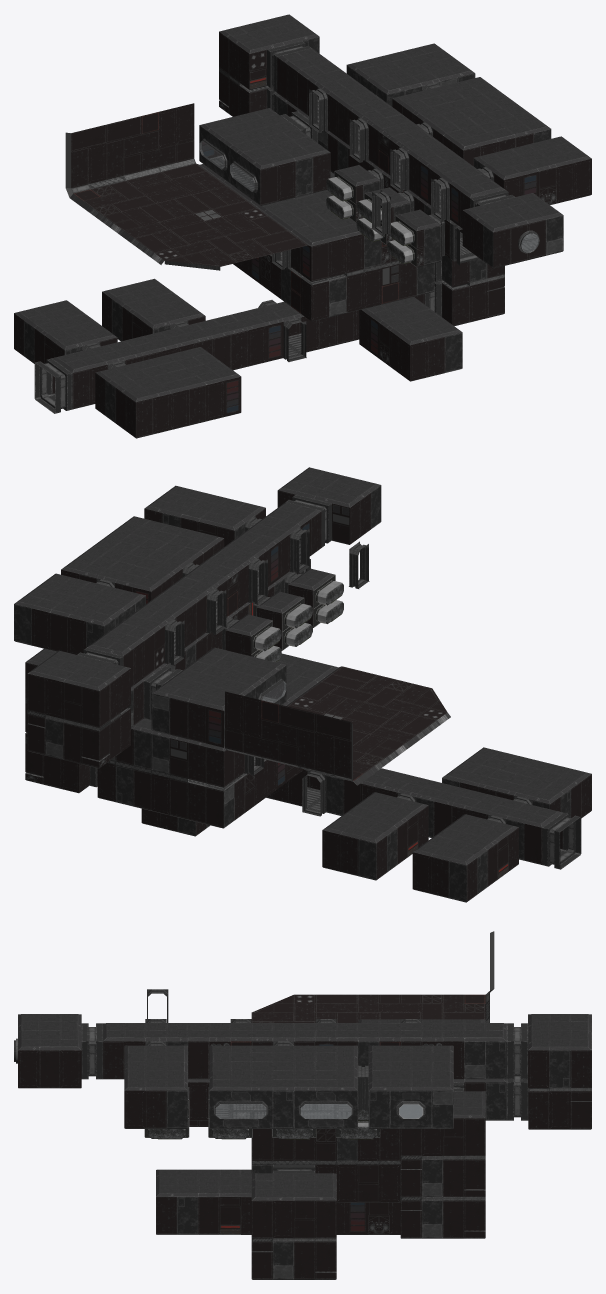
Rendered from Level1Area1.glb.
3 views of the same model, one above another, from view 1: azimuth 30°, elevation 25°; view 2: azimuth 150°, elevation 25°; view 3: azimuth 270°, elevation 25° (orthographic). The views are drawn at different scales.
Visible parts, largest first — view 1: Area2_celi-col.001, Area1_EXPORTLEVELCEIL-col, Area1_EXPORTLEVEL-col, Area4_EXPORTLEVEL-col, Area4_EXPORTLEVEL_ceil-col, Area1_EXPORTLEVEL-col.001, Area2-col, Area2_celi-col; view 2: Area1_EXPORTLEVEL-col, Area1_EXPORTLEVELCEIL-col, Area2_celi-col.001, Area4_EXPORTLEVEL-col, Area4_EXPORTLEVEL_ceil-col, Area2-col, Area1_EXPORTLEVEL-col.001, Area2_celi-col; view 3: Area1_EXPORTLEVEL-col, Area1_EXPORTLEVELCEIL-col, Area1_EXPORTLEVEL-col.001, Area2-col, Area2_celi-col.001, Area4_EXPORTLEVEL-col, Area4_EXPORTLEVEL_ceil-col, Area2_celi-col.
Boxes of the visible parts, bbox=[...] form: Area2_celi-col.001: bbox=[65, 103, 361, 270]; Area1_EXPORTLEVELCEIL-col: bbox=[219, 14, 591, 232]; Area1_EXPORTLEVEL-col: bbox=[219, 32, 591, 268]; Area4_EXPORTLEVEL-col: bbox=[14, 292, 462, 438]; Area4_EXPORTLEVEL_ceil-col: bbox=[14, 278, 462, 402]; Area1_EXPORTLEVEL-col.001: bbox=[233, 234, 504, 326]; Area2-col: bbox=[199, 96, 479, 267]; Area2_celi-col: bbox=[199, 95, 452, 230]; Area1_EXPORTLEVEL-col: bbox=[14, 485, 381, 768]; Area1_EXPORTLEVELCEIL-col: bbox=[14, 467, 380, 690]; Area2_celi-col.001: bbox=[131, 653, 450, 785]; Area4_EXPORTLEVEL-col: bbox=[141, 770, 591, 902]; Area4_EXPORTLEVEL_ceil-col: bbox=[304, 747, 591, 865]; Area2-col: bbox=[25, 559, 343, 793]; Area1_EXPORTLEVEL-col.001: bbox=[97, 728, 304, 828]; Area2_celi-col: bbox=[25, 568, 335, 710]; Area1_EXPORTLEVEL-col: bbox=[14, 989, 591, 1129]; Area1_EXPORTLEVELCEIL-col: bbox=[18, 1014, 591, 1090]; Area1_EXPORTLEVEL-col.001: bbox=[251, 1129, 400, 1279]; Area2-col: bbox=[144, 1082, 506, 1238]; Area2_celi-col.001: bbox=[251, 931, 494, 1200]; Area4_EXPORTLEVEL-col: bbox=[156, 1120, 400, 1234]; Area4_EXPORTLEVEL_ceil-col: bbox=[156, 1169, 251, 1196]; Area2_celi-col: bbox=[188, 1019, 506, 1118].
Size of the model in its own units: 26.65 by 10.63 by 27.19.
Materials: 5 (5 with a texture image).
